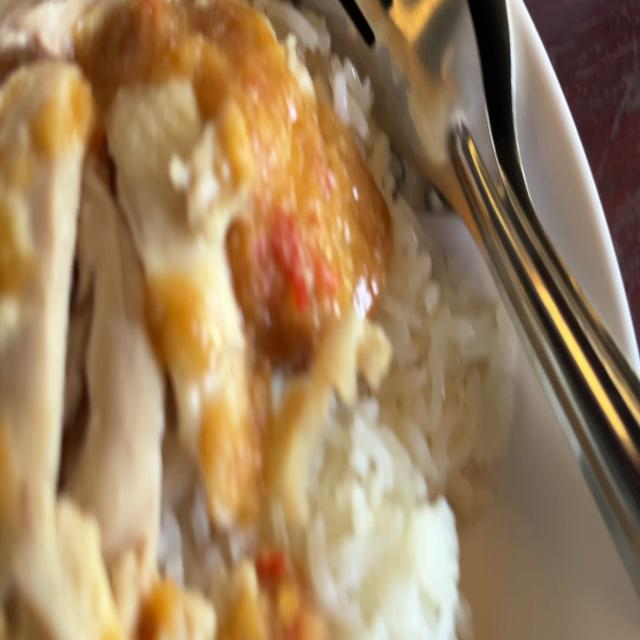chicken_rice: (0, 0, 361, 640)
